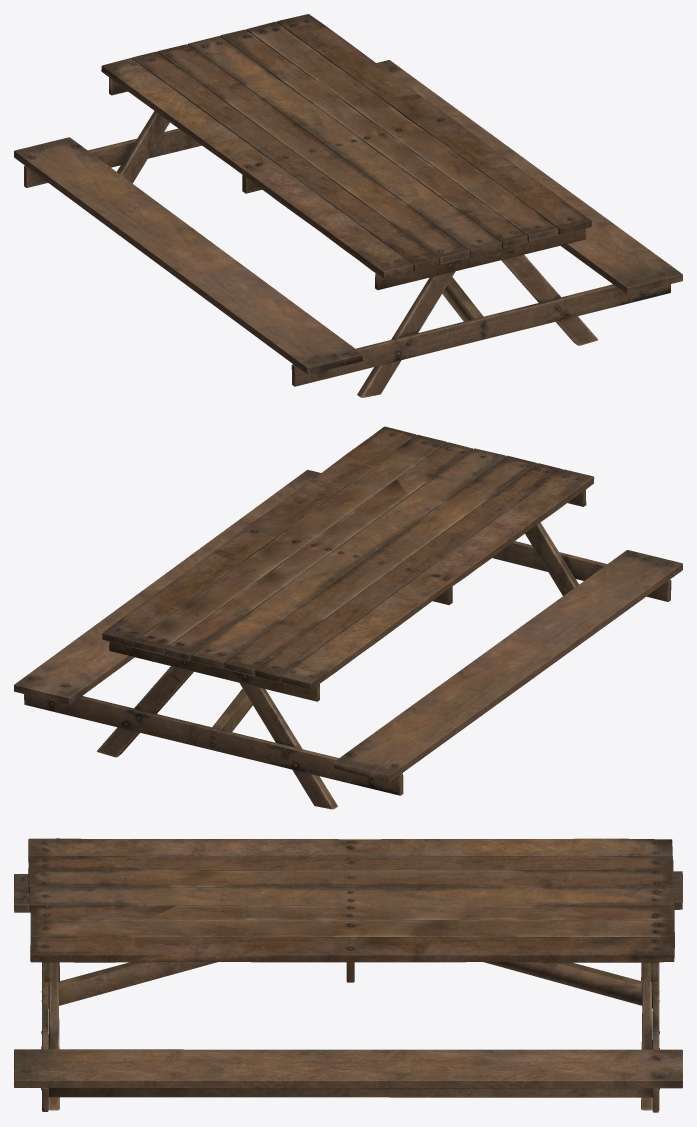
The model's file is table.glb.
The picture shows the model from 3 angles, top to bottom: view 1: azimuth 30°, elevation 25°; view 2: azimuth 150°, elevation 25°; view 3: azimuth 270°, elevation 25°; orthographic projection. The views are drawn at different scales.
Parts seen in each view (by area): view 1: wooden_picnic_table; view 2: wooden_picnic_table; view 3: wooden_picnic_table.
Part boxes in pixels (<box>): wooden_picnic_table: <box>14,14,682,397</box>; wooden_picnic_table: <box>14,426,682,809</box>; wooden_picnic_table: <box>14,838,682,1112</box>.
Size of the model in its own units: 2.24 by 0.746 by 3.02.
Materials: 2 (2 with a texture image).
